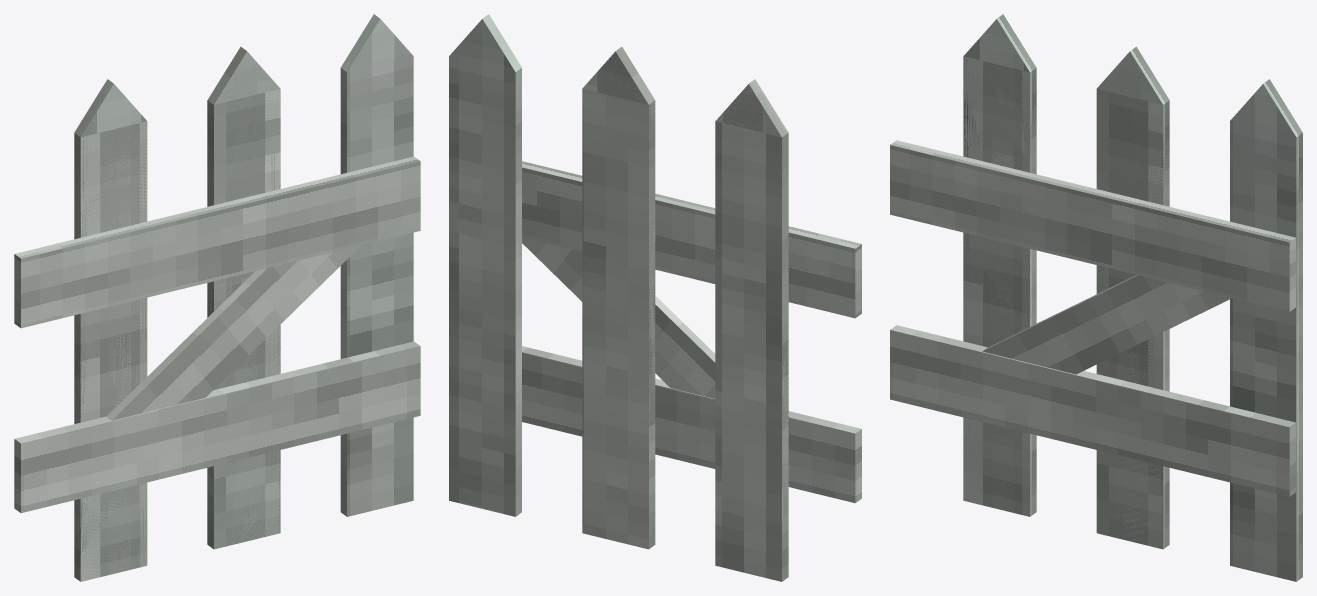
The model's file is white_picket_fence_gate.glb.
3 views of the same model, side by side, from view 1: azimuth 30°, elevation 25°; view 2: azimuth 150°, elevation 25°; view 3: azimuth 330°, elevation 25° (orthographic).
Visible parts, largest first — view 1: white_picket_fence_gate; view 2: white_picket_fence_gate; view 3: white_picket_fence_gate.
Boxes of the visible parts, x1,y1,x2,y2 form: white_picket_fence_gate: (14,14,420,581); white_picket_fence_gate: (449,14,861,581); white_picket_fence_gate: (890,14,1302,581).
Size of the model in its own units: 1.08 by 1.27 by 0.0622.
1 material, 1 textured.
